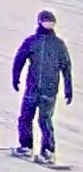snowboarder: (3, 9, 74, 170)
